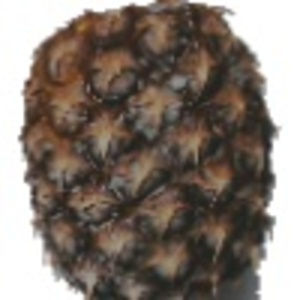abacaxi: (13, 4, 287, 297)
